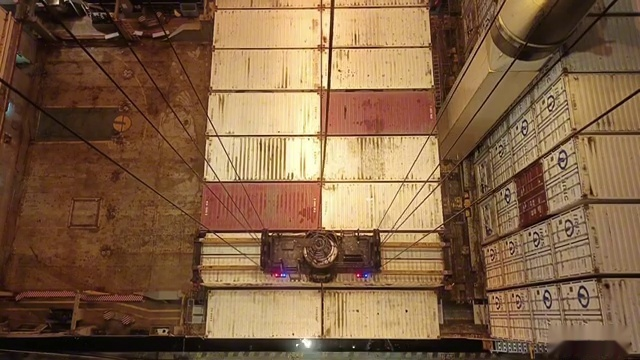container: (194, 227, 448, 287), (204, 289, 443, 341), (197, 182, 446, 230), (202, 136, 439, 183), (207, 48, 434, 93), (205, 92, 436, 136), (211, 6, 435, 48)
guide_mark: (62, 347, 562, 360), (98, 339, 542, 353)
spreader: (183, 223, 457, 288)
target_slot: (194, 230, 452, 289)
